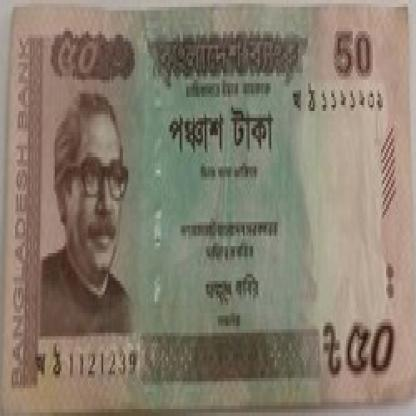Fifty taka: (168, 97, 291, 170), (40, 24, 108, 108), (341, 316, 401, 388)
